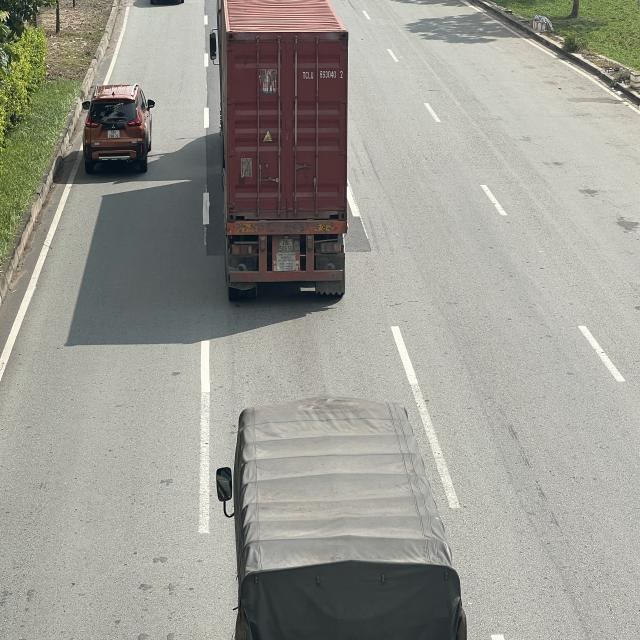car: (79, 84, 156, 174)
container: (208, 0, 348, 300)
truck: (215, 398, 468, 640)
